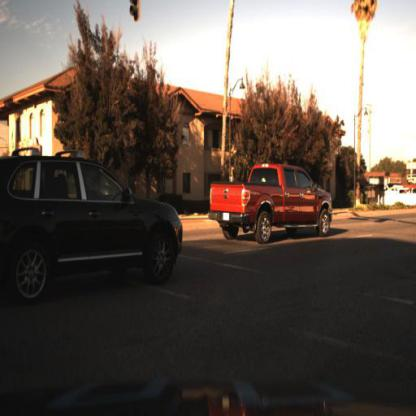car: (3, 147, 187, 306), (210, 159, 336, 261)
